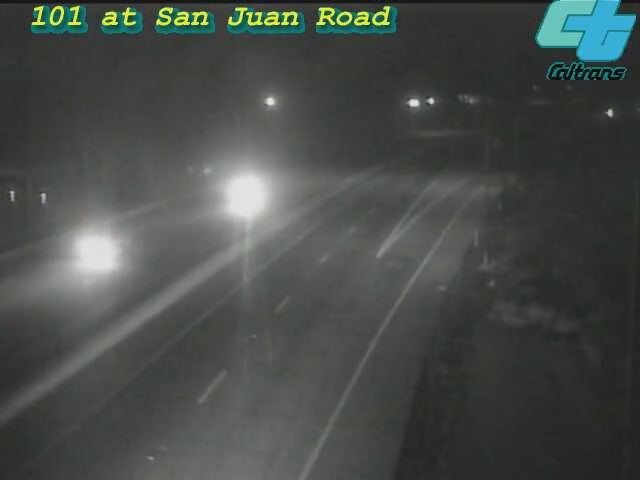vehicle: (56, 211, 136, 291), (200, 157, 280, 237), (582, 87, 632, 137)
